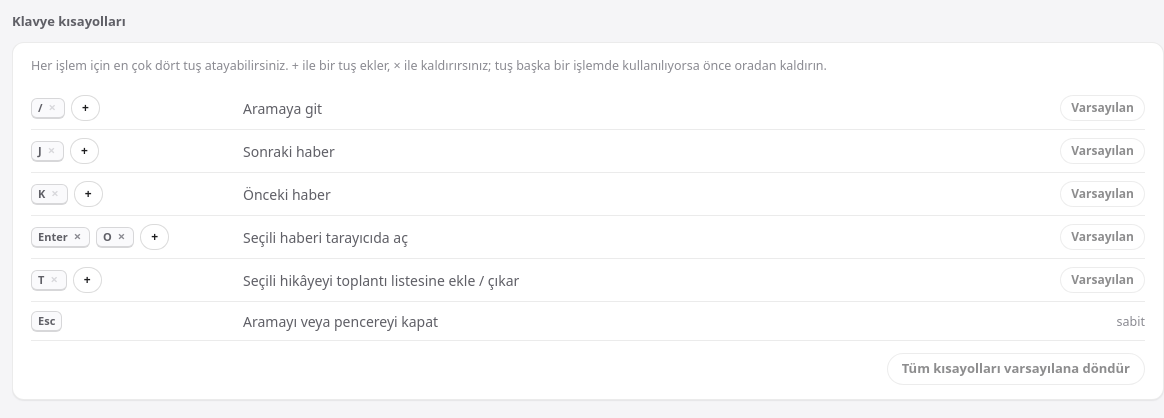
Test: Shortcut settings › Esc cancels the listening without changing anything
Click the button named "Aramaya git için tuş ekle" at (85, 108), box [71, 95, 100, 121]
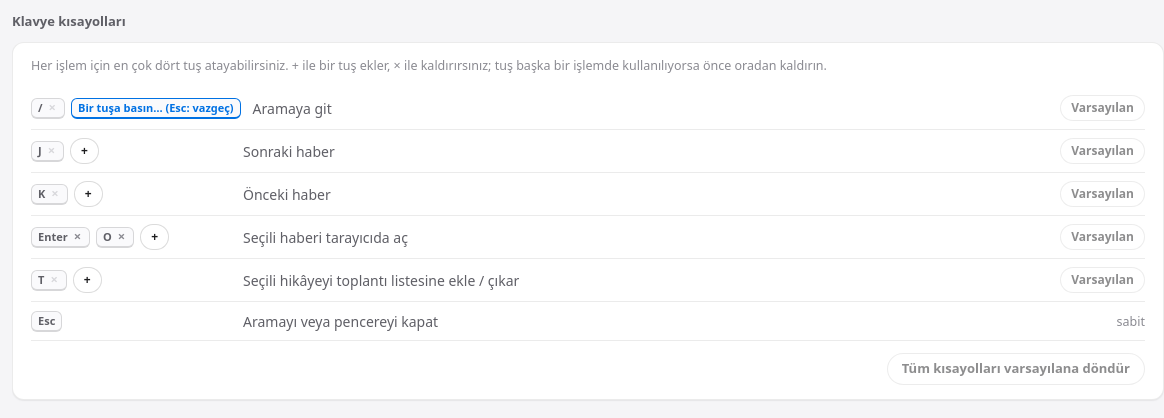
Press Escape
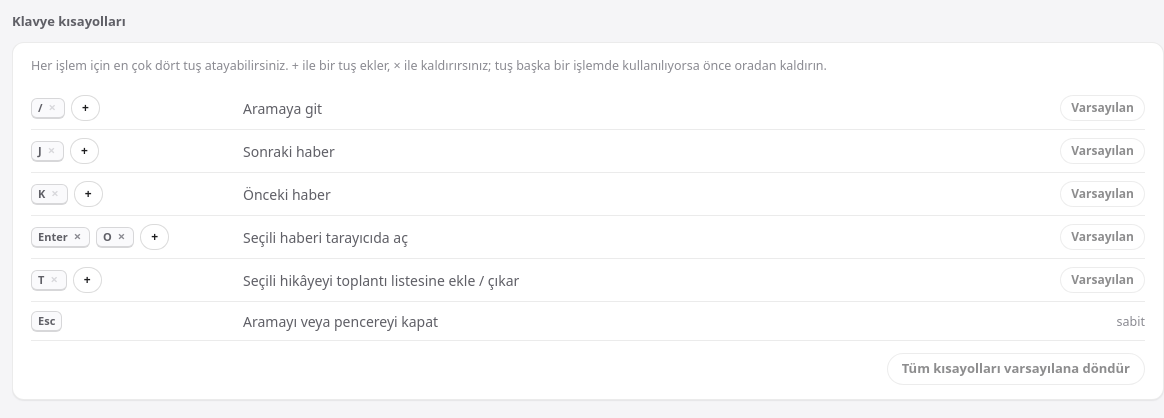
Check: the text "Bir tuşa basın" is gone
